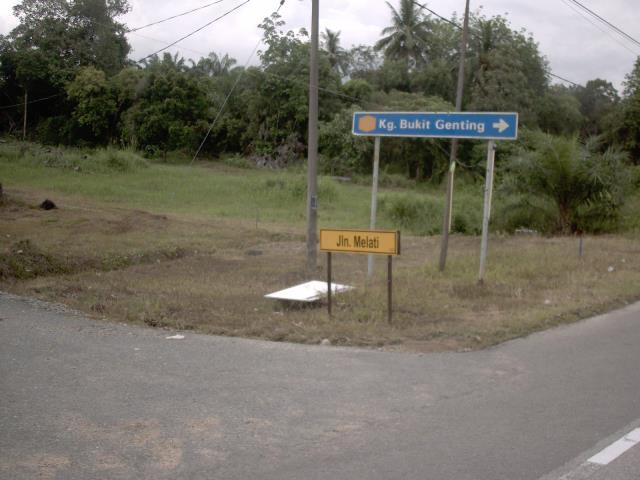traffic_sign: (343, 102, 526, 149)
